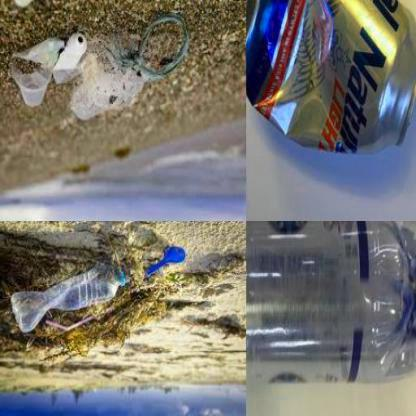Metal: (250, 2, 416, 158)
Plastic: (248, 229, 412, 392), (7, 263, 132, 340), (11, 65, 49, 109)
Trash: (67, 15, 197, 123), (144, 242, 188, 283), (52, 33, 88, 76)
